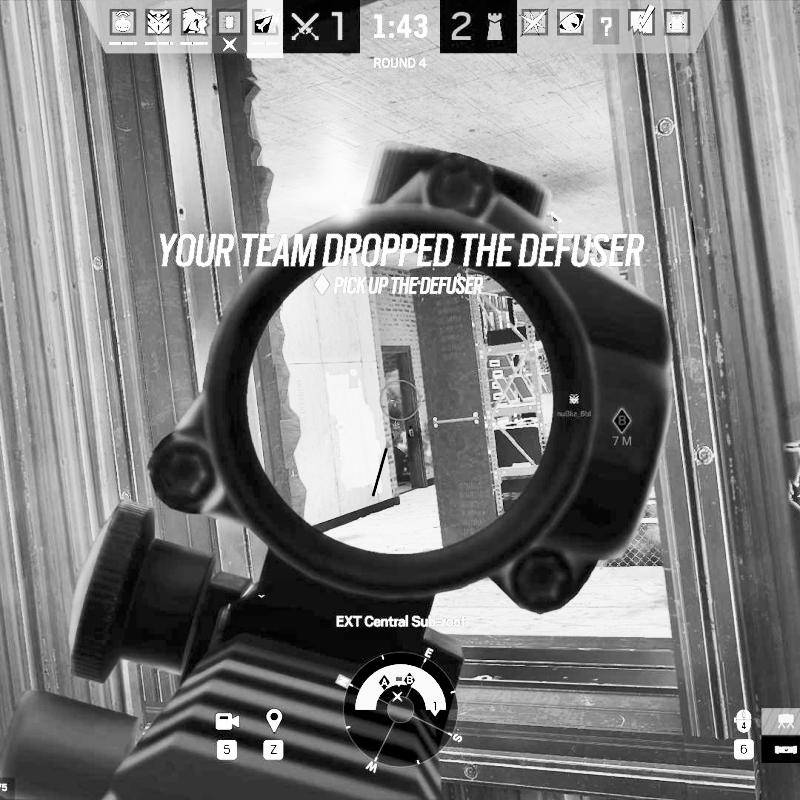Friend_label: (556, 392, 593, 418)
